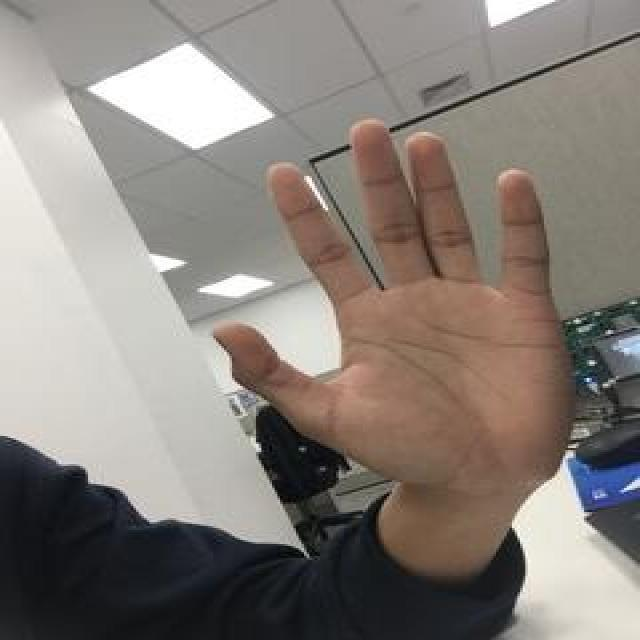hand: (211, 122, 578, 496)
